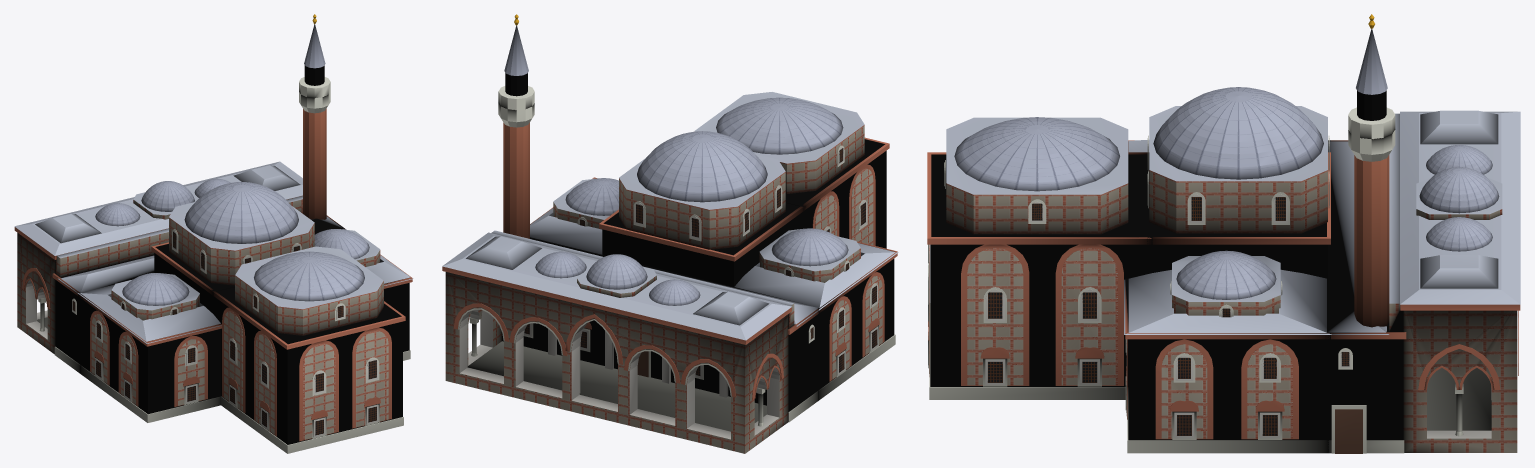
Rendered from orhan-bey-camii_v03.glb.
3 views of the same model, side by side, from view 1: azimuth 30°, elevation 25°; view 2: azimuth 150°, elevation 25°; view 3: azimuth 270°, elevation 25° (orthographic). The views are drawn at different scales.
Visible parts, largest first — view 1: Cepheler, Kubbe_Mihrap, Kubbe_Ana, Kubbe_SonCemaat, Cami_Mihrap, Cati_Kanatlar, Cami_Kanat_B, Minare_1, Kaide_Bant, Cami_SonCemaat, Sacak, Kubbe_Tabhane_B (+5 smaller); view 2: Cami_SonCemaat, Kubbe_SonCemaat, Kubbe_Ana, Kubbe_Mihrap, Cepheler, Revak_Ic, Cati_Kanatlar, Minare_1, Cami_Harim, Sacak, Cami_Koridor, Revak_Cephe (+7 smaller); view 3: Cepheler, Kubbe_SonCemaat, Kubbe_Ana, Kubbe_Mihrap, Cami_Mihrap, Cati_Kanatlar, Cami_SonCemaat, Minare_1, Cami_Kanat_D, Sacak, Kubbe_Tabhane_D, Cami_Koridor (+5 smaller).
Boxes of the visible parts, bbox=[...] form: Cepheler: bbox=[72, 229, 391, 441]; Kubbe_Mihrap: bbox=[235, 246, 383, 335]; Kubbe_Ana: bbox=[169, 182, 314, 285]; Kubbe_SonCemaat: bbox=[14, 161, 302, 255]; Cami_Mihrap: bbox=[214, 287, 402, 444]; Cati_Kanatlar: bbox=[58, 216, 413, 343]; Cami_Kanat_B: bbox=[81, 298, 221, 414]; Minare_1: bbox=[299, 14, 330, 219]; Kaide_Bant: bbox=[54, 346, 410, 453]; Cami_SonCemaat: bbox=[17, 233, 55, 353]; Sacak: bbox=[14, 195, 412, 349]; Kubbe_Tabhane_B: bbox=[111, 273, 199, 320]; Cami_SonCemaat: bbox=[445, 272, 788, 453]; Kubbe_SonCemaat: bbox=[442, 232, 791, 340]; Kubbe_Ana: bbox=[619, 131, 785, 249]; Kubbe_Mihrap: bbox=[694, 92, 864, 193]; Cepheler: bbox=[577, 145, 884, 381]; Revak_Ic: bbox=[467, 317, 766, 431]; Cati_Kanatlar: bbox=[530, 178, 898, 326]; Minare_1: bbox=[498, 14, 534, 238]; Cami_Harim: bbox=[602, 203, 802, 286]; Sacak: bbox=[442, 137, 897, 344]; Cami_Koridor: bbox=[502, 315, 817, 411]; Revak_Cephe: bbox=[453, 303, 783, 400]; Cepheler: bbox=[928, 135, 1366, 453]; Kubbe_SonCemaat: bbox=[1400, 110, 1520, 304]; Kubbe_Ana: bbox=[1149, 87, 1327, 233]; Kubbe_Mihrap: bbox=[946, 117, 1128, 234]; Cami_Mihrap: bbox=[930, 154, 1149, 386]; Cati_Kanatlar: bbox=[1124, 140, 1389, 334]; Cami_SonCemaat: bbox=[1403, 310, 1517, 452]; Minare_1: bbox=[1348, 14, 1395, 327]; Cami_Kanat_D: bbox=[1128, 339, 1327, 440]; Sacak: bbox=[927, 140, 1520, 339]; Kubbe_Tabhane_D: bbox=[1172, 250, 1280, 315]; Cami_Koridor: bbox=[1328, 323, 1403, 440].
Bounding box in the file's own units: 26.2 × 27.05 × 33.88.
Materials: 11 (3 with a texture image).
